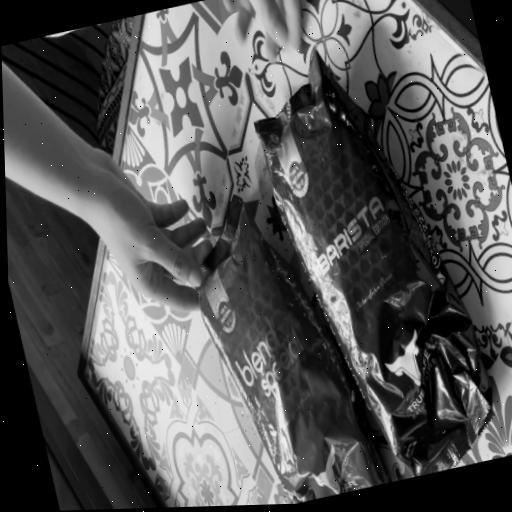cafe_hat: (255, 51, 492, 477)
cafe_xay: (198, 196, 393, 504)
